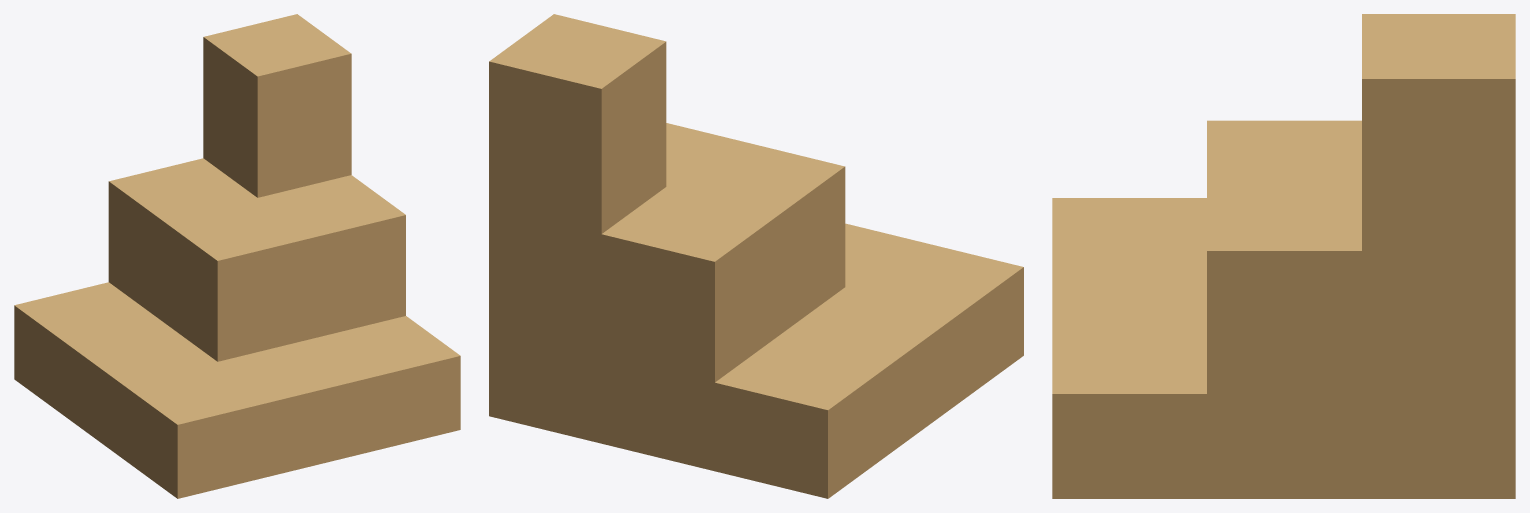
Rendered from ST_Env_BackgroundEdge_03.fbx.
The picture shows the model from 3 angles, left to right: view 1: azimuth 30°, elevation 25°; view 2: azimuth 150°, elevation 25°; view 3: azimuth 270°, elevation 25°; orthographic projection. The views are drawn at different scales.
Visible parts, largest first — view 1: ST_Env_BackgroundEdge_03; view 2: ST_Env_BackgroundEdge_03; view 3: ST_Env_BackgroundEdge_03.
Part boxes in pixels (<box>): ST_Env_BackgroundEdge_03: <box>14,14,460,498</box>; ST_Env_BackgroundEdge_03: <box>489,14,1023,498</box>; ST_Env_BackgroundEdge_03: <box>1052,14,1515,498</box>.
Bounding box in the file's own units: 4 × 4 × 4.
